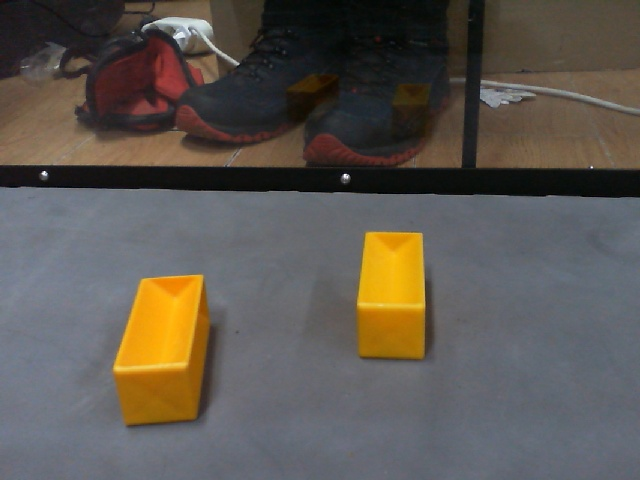YellowSample: (109, 273, 211, 427), (352, 223, 435, 372)
